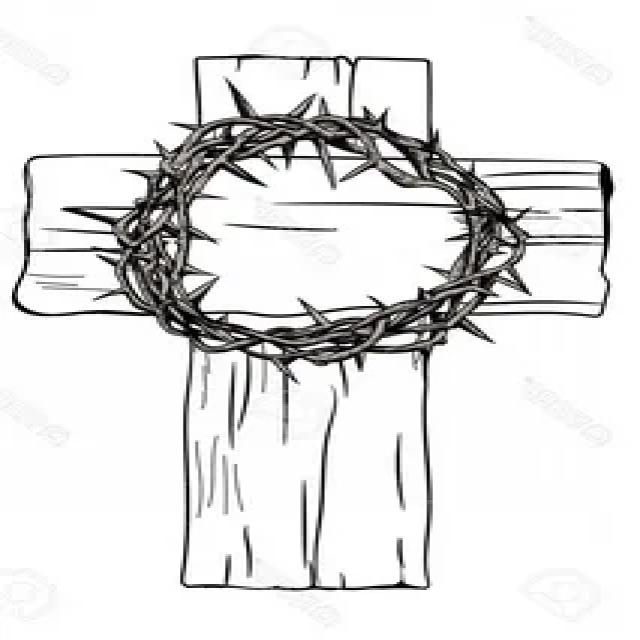crown: (88, 86, 532, 374)
